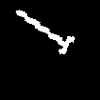half_double_crochet: (16, 10, 74, 53)
